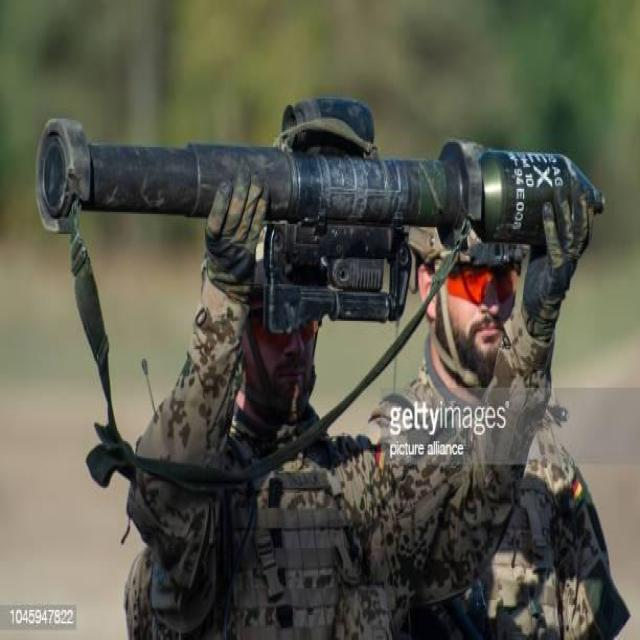bazooka: (30, 79, 615, 347)
